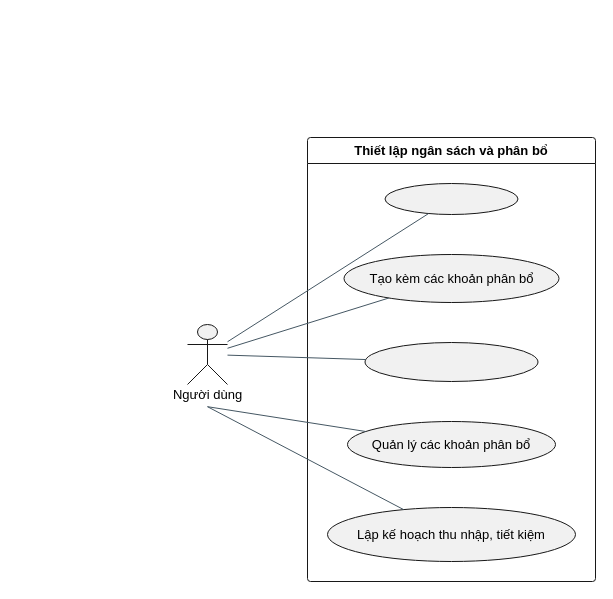
The diagram is 613 pixels wide and 599 high, and some of its shapes have lost their labels. Here are the shapes that lost their labels. From the top down, the box of each, then its label:
(384, 182, 518, 214): Tạo ngân sách
(364, 342, 538, 382): Điều chỉnh ngân sách
